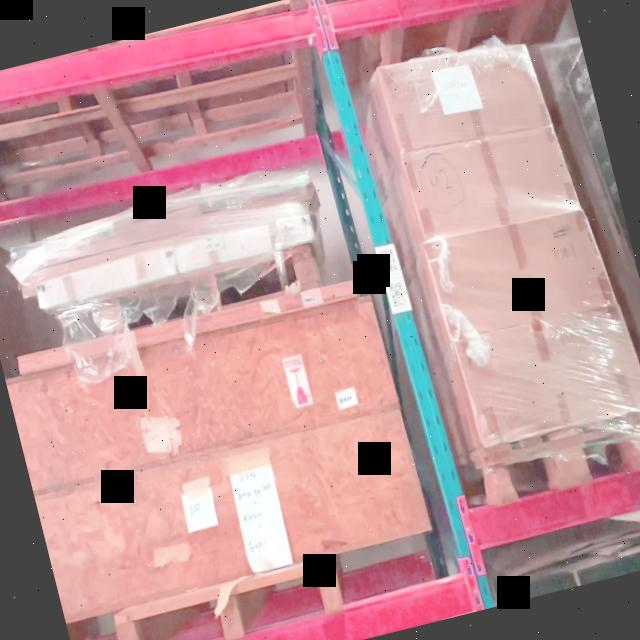box: (454, 302, 640, 447), (424, 209, 617, 335), (402, 125, 581, 235), (377, 44, 550, 148)
